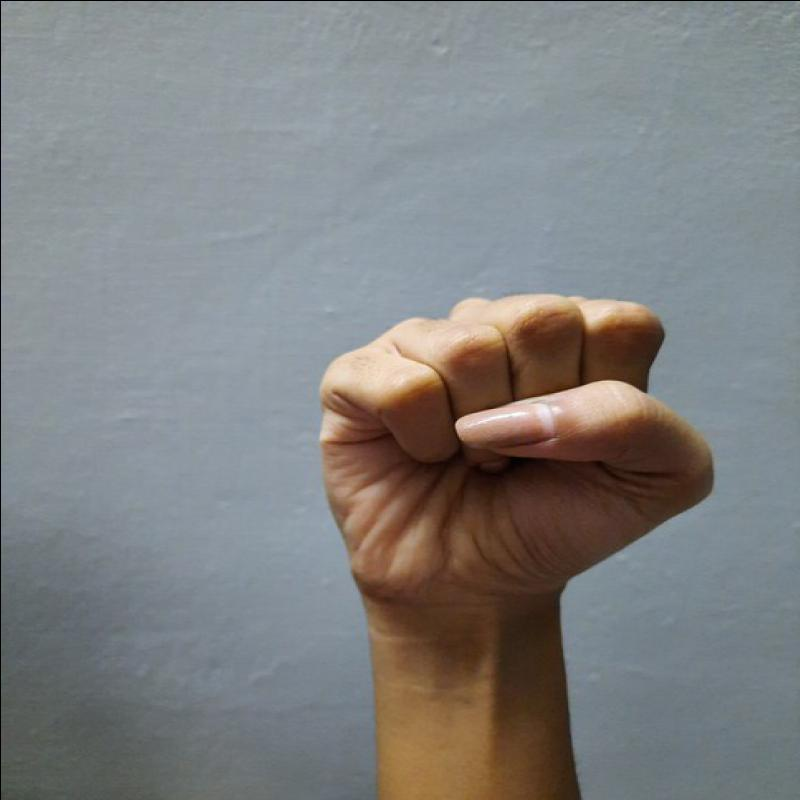Mushti: (299, 270, 728, 669)
